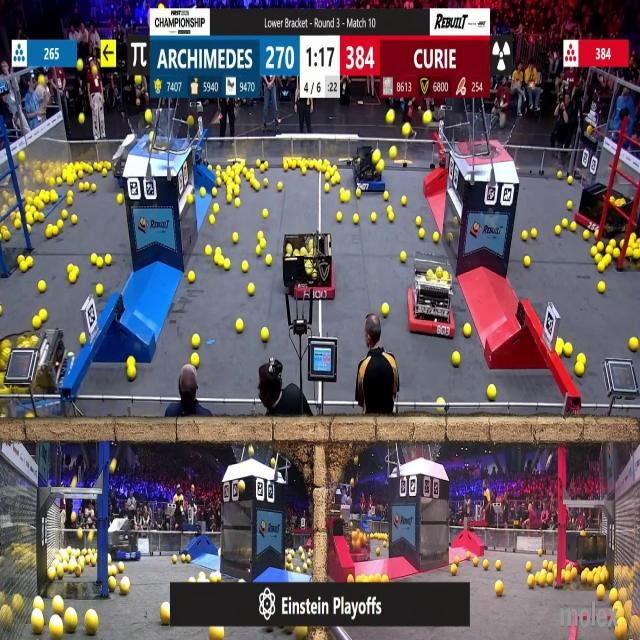ball_airborne: (295, 627, 306, 639), (423, 111, 432, 124), (387, 110, 395, 123), (238, 481, 246, 494), (402, 124, 409, 138), (76, 60, 84, 72), (17, 150, 24, 162), (389, 146, 396, 158), (110, 460, 116, 474), (145, 109, 151, 122), (136, 74, 142, 86), (38, 75, 45, 85), (78, 113, 84, 124), (188, 116, 194, 126), (93, 66, 99, 76), (71, 513, 76, 524), (77, 530, 83, 539), (148, 132, 154, 141), (249, 448, 254, 457)
ball_ground: (87, 612, 100, 636), (65, 612, 78, 636), (32, 614, 44, 635), (53, 619, 65, 640), (162, 604, 172, 627), (54, 597, 65, 614), (119, 580, 129, 596), (488, 384, 496, 399), (495, 582, 503, 597), (630, 338, 638, 352), (191, 336, 199, 350), (128, 365, 136, 379), (564, 344, 572, 358), (190, 353, 198, 366), (575, 362, 583, 375), (609, 590, 617, 603), (108, 577, 116, 590), (538, 572, 546, 585), (34, 598, 43, 609), (382, 304, 389, 318), (237, 319, 244, 333), (453, 352, 460, 366), (557, 342, 564, 356), (33, 316, 41, 328), (263, 328, 270, 341), (597, 587, 604, 600), (464, 324, 471, 336), (97, 284, 104, 296), (188, 272, 195, 284), (38, 280, 45, 292), (524, 255, 531, 267), (27, 256, 34, 268), (545, 572, 552, 584), (128, 356, 136, 366), (36, 212, 44, 222), (214, 254, 222, 264), (576, 353, 584, 363), (604, 254, 612, 264), (579, 570, 587, 580), (19, 263, 26, 274), (69, 274, 76, 285), (248, 283, 254, 295), (223, 260, 229, 272), (40, 310, 46, 322), (528, 575, 534, 587), (356, 573, 364, 582), (105, 254, 112, 264), (2, 232, 9, 242), (452, 564, 458, 575), (400, 251, 406, 262), (416, 216, 422, 227), (233, 233, 239, 244), (79, 335, 85, 346), (598, 282, 604, 293), (50, 190, 56, 201), (45, 229, 51, 240), (119, 196, 125, 207), (341, 190, 347, 201), (28, 213, 34, 224), (98, 256, 104, 267), (108, 566, 115, 575), (213, 205, 220, 214), (105, 163, 112, 172), (225, 184, 232, 193), (242, 263, 248, 273), (267, 255, 273, 265), (432, 234, 438, 244), (556, 224, 562, 234), (523, 232, 529, 242), (92, 254, 98, 264), (570, 221, 576, 231), (566, 201, 572, 211), (526, 562, 532, 572), (117, 563, 123, 573), (62, 210, 68, 220), (598, 264, 604, 274), (206, 246, 212, 256), (591, 246, 597, 256), (235, 185, 241, 195), (615, 248, 621, 258), (83, 185, 89, 195), (595, 253, 601, 263), (187, 193, 193, 203), (54, 226, 60, 236), (634, 249, 640, 259), (348, 574, 355, 582), (253, 182, 260, 190), (375, 572, 382, 580), (353, 214, 359, 223), (370, 213, 376, 222), (531, 230, 537, 239), (584, 232, 590, 241), (484, 560, 490, 569), (92, 183, 98, 192), (388, 213, 394, 222), (226, 193, 232, 202), (212, 187, 218, 196), (68, 265, 74, 274), (562, 219, 568, 228), (382, 573, 388, 582), (78, 182, 84, 191), (14, 219, 20, 228), (336, 175, 342, 184), (595, 240, 601, 249), (68, 177, 74, 186), (283, 164, 289, 173), (369, 572, 375, 581), (226, 167, 232, 176), (452, 216, 458, 225), (420, 230, 425, 240), (384, 190, 389, 200), (338, 212, 343, 222), (264, 209, 269, 219), (278, 184, 283, 194), (216, 572, 221, 582), (102, 170, 109, 177), (400, 198, 406, 206), (259, 240, 265, 248), (68, 198, 74, 206), (216, 178, 222, 186), (256, 232, 262, 240), (330, 176, 336, 184), (235, 176, 241, 184), (628, 248, 634, 256), (299, 167, 305, 175), (439, 396, 445, 404), (608, 240, 614, 248), (557, 172, 563, 180), (78, 172, 84, 180), (594, 232, 600, 240), (356, 188, 361, 197), (72, 215, 77, 224), (236, 199, 241, 208), (496, 561, 501, 570), (472, 558, 477, 567), (201, 187, 206, 196), (210, 215, 215, 224), (58, 177, 63, 186), (542, 561, 547, 570), (108, 556, 113, 565), (28, 223, 33, 232), (215, 248, 221, 255), (68, 189, 74, 196), (187, 576, 193, 583), (454, 557, 460, 564), (255, 247, 260, 255), (324, 183, 329, 191), (59, 220, 64, 228), (173, 556, 178, 564), (265, 178, 269, 188), (631, 234, 636, 242), (388, 206, 393, 214), (324, 173, 329, 181), (93, 558, 98, 566), (621, 240, 626, 248), (242, 168, 247, 176), (291, 160, 296, 168), (72, 479, 76, 489), (568, 176, 572, 185), (0, 307, 4, 316), (448, 235, 453, 242), (215, 168, 220, 175), (265, 163, 270, 170), (186, 555, 190, 563), (256, 161, 260, 169), (299, 556, 304, 562), (466, 553, 470, 560), (538, 550, 542, 557), (377, 547, 381, 554), (260, 166, 264, 173), (296, 567, 300, 574)
goal: (460, 118, 518, 158), (128, 115, 186, 153)
robot_blue: (0, 327, 75, 416), (352, 144, 386, 192), (108, 528, 140, 561)
robot_red: (283, 234, 335, 300), (409, 265, 454, 337), (578, 174, 608, 228), (564, 532, 604, 572), (346, 519, 372, 560)
